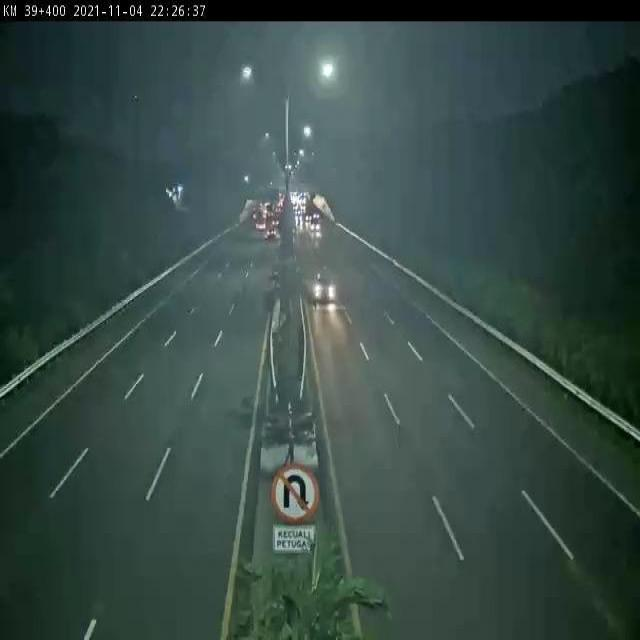car: (306, 260, 345, 315)
